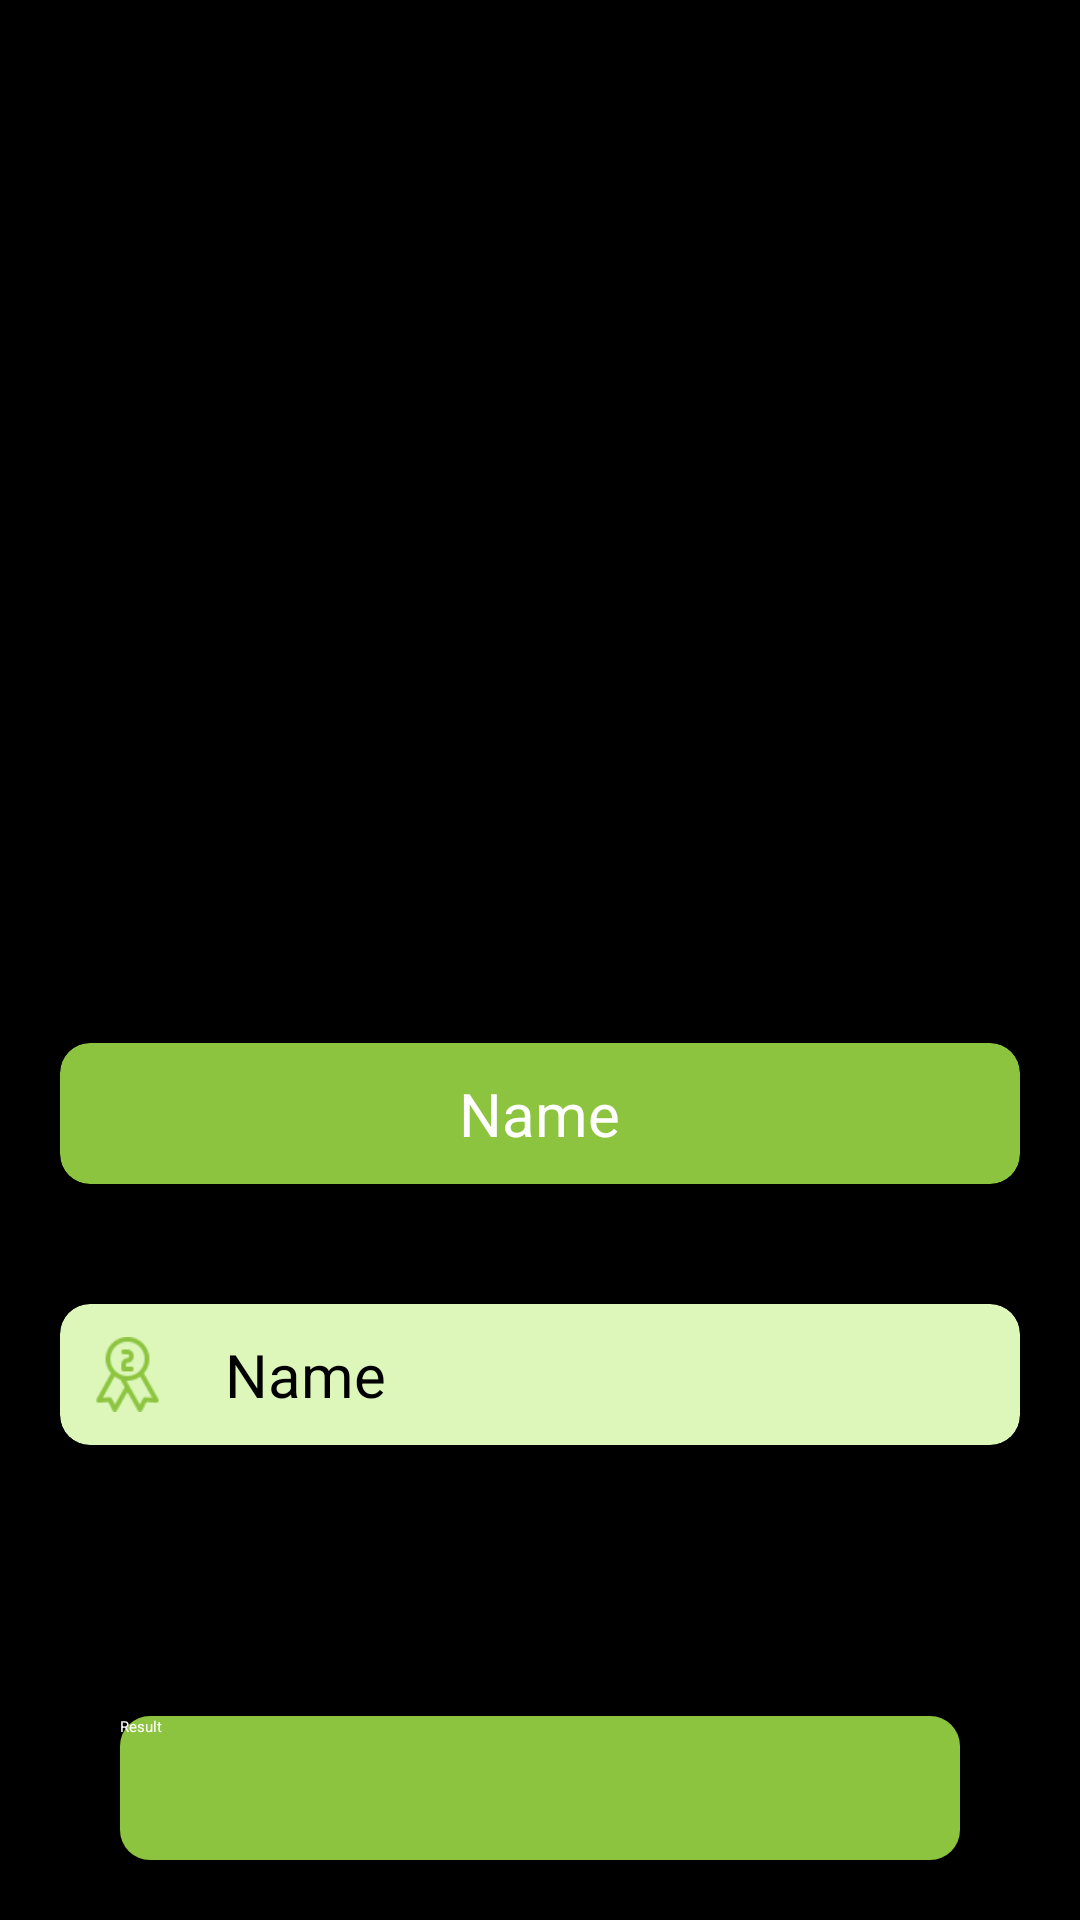

Named icons in this screenshot (1080 x 1920) and their bounding boxes, Rect(x1, y1, x2, y2):
runnr up: Rect(96, 1337, 159, 1412)
